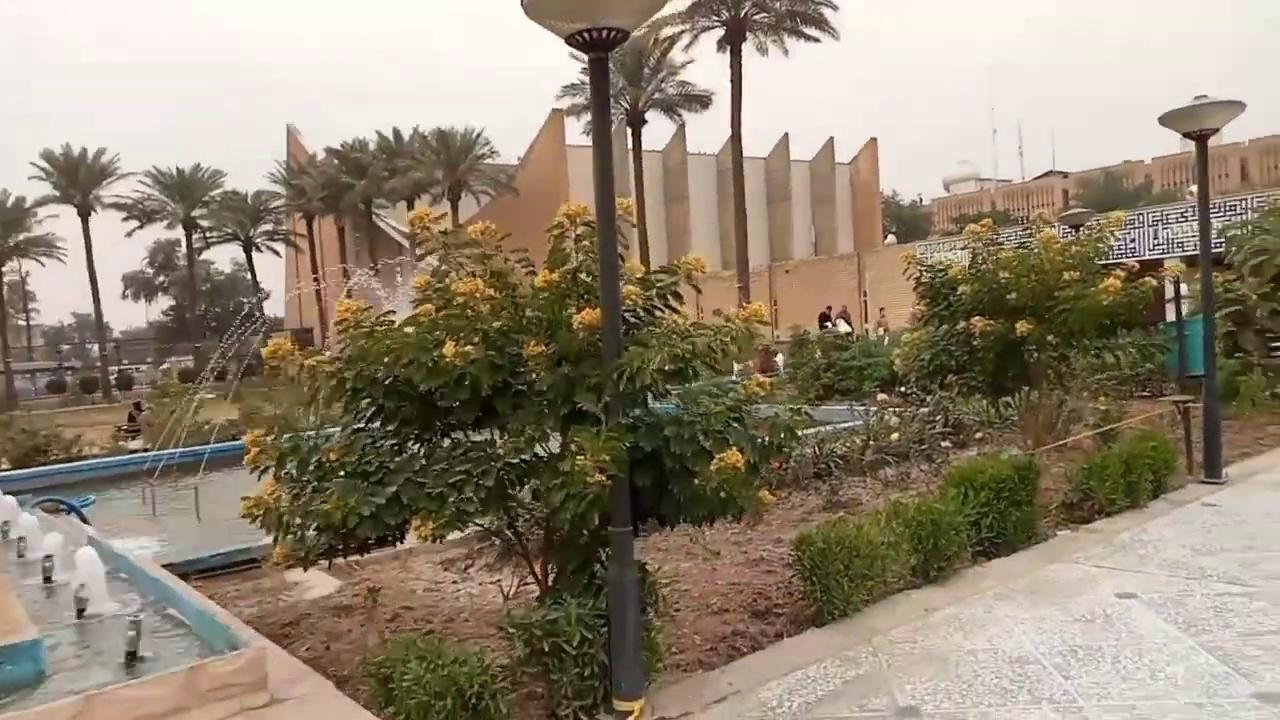fountain: (82, 287, 311, 573), (0, 488, 269, 718)
person: (125, 399, 144, 432), (834, 304, 853, 333), (874, 306, 890, 336), (817, 305, 834, 330)
tree: (237, 197, 805, 718), (890, 204, 1177, 449), (631, 0, 840, 307), (555, 35, 714, 277), (26, 140, 139, 402), (122, 160, 227, 364), (263, 151, 342, 349), (1208, 196, 1279, 415), (0, 186, 67, 409), (365, 124, 435, 311), (199, 186, 300, 314), (408, 123, 512, 228), (320, 136, 386, 301), (368, 124, 432, 214), (120, 236, 182, 326), (321, 135, 386, 220), (119, 267, 162, 326)
